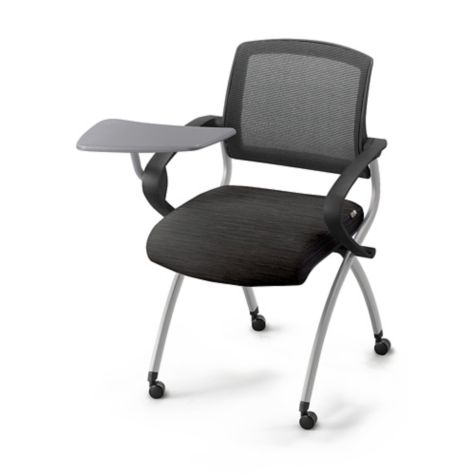desk: (62, 23, 402, 438)
